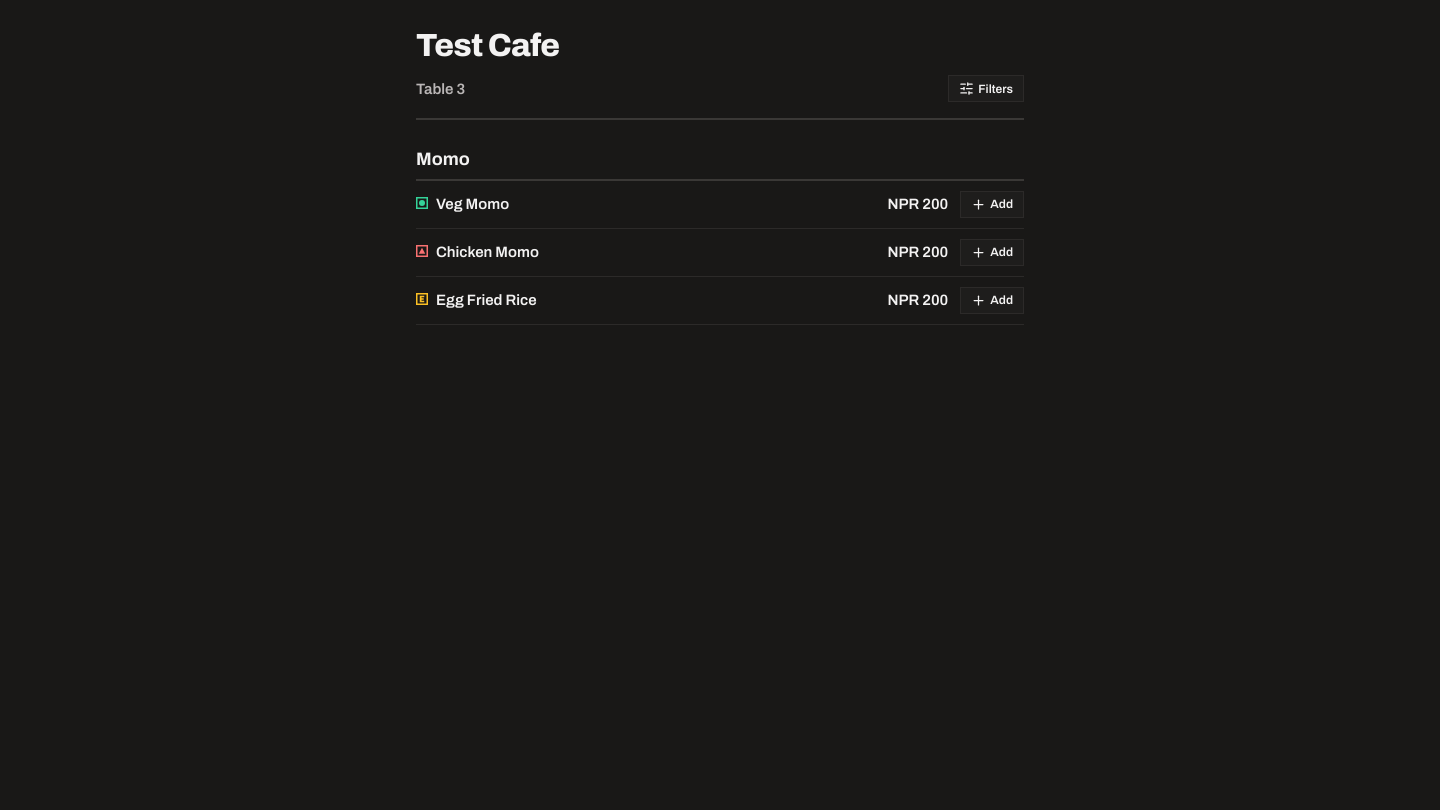
Test: egg is its own mark, and is not vegetarian (S846) › marks the egg dish, keys all three marks, and hides egg under Vegetarian only
Expected: the number of pictures named "Contains egg" is 1, x1=416 y1=293 x2=428 y2=305
Expected: the number of pictures named "Vegetarian" is 1, x1=416 y1=197 x2=428 y2=209
Click the button "Filters".
click(986, 89)  # box x1=948 y1=75 x2=1024 y2=102
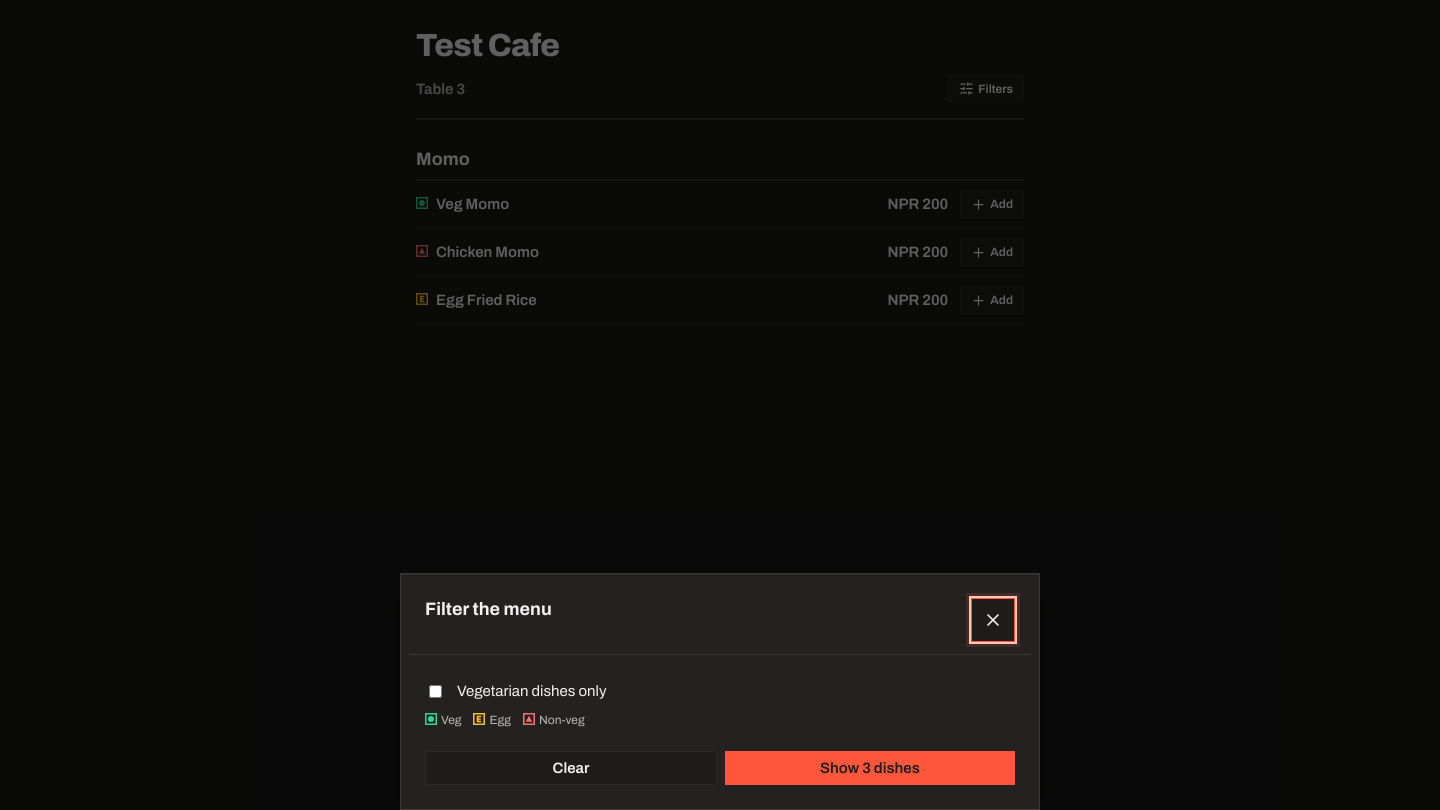
Click the checkbox labelled "Vegetarian dishes only".
click(436, 691)  # box x1=429 y1=684 x2=442 y2=698
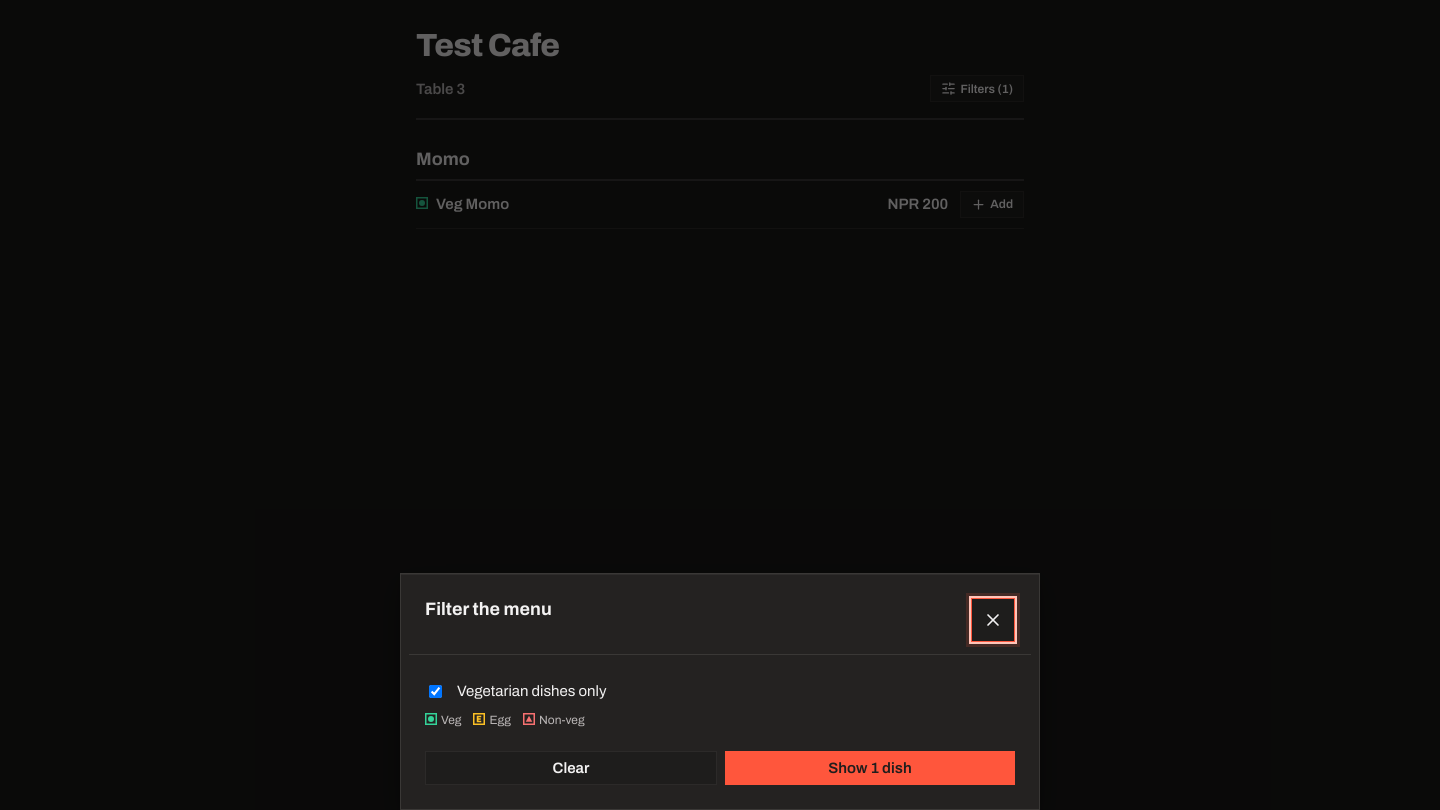
Result: the button "Show 1 dish" is shown at x1=725 y1=751 x2=1015 y2=785
